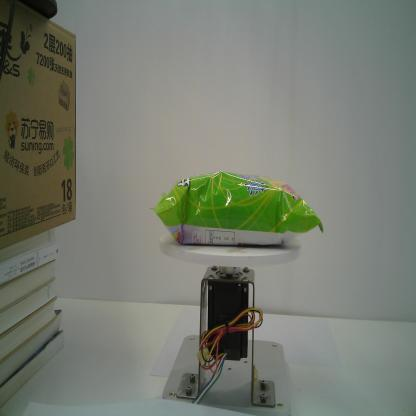Puffed Food: (150, 170, 324, 247)
